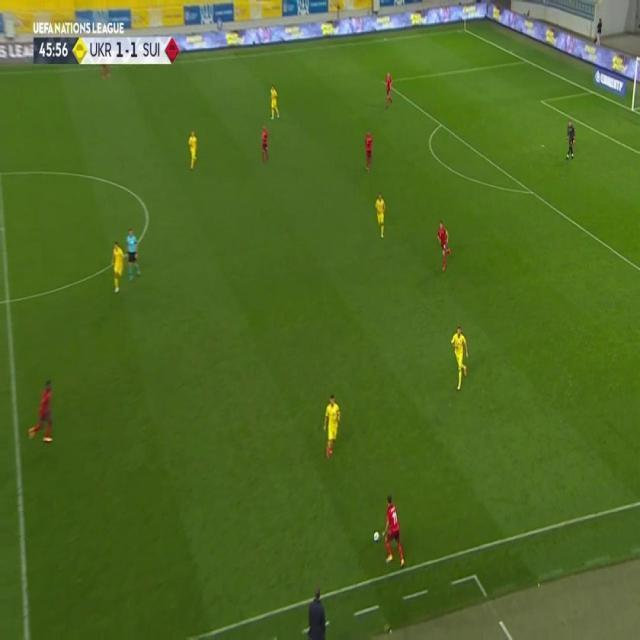ball: (373, 530, 380, 543)
goalkeeper: (565, 121, 577, 160)
player: (381, 492, 406, 569), (28, 379, 54, 446), (450, 324, 470, 393), (322, 392, 341, 460), (436, 219, 452, 273), (110, 240, 125, 297), (375, 192, 386, 240), (187, 129, 199, 170), (383, 70, 395, 110), (269, 84, 281, 120), (364, 130, 374, 172), (260, 124, 270, 165)
referee: (125, 227, 141, 284)
